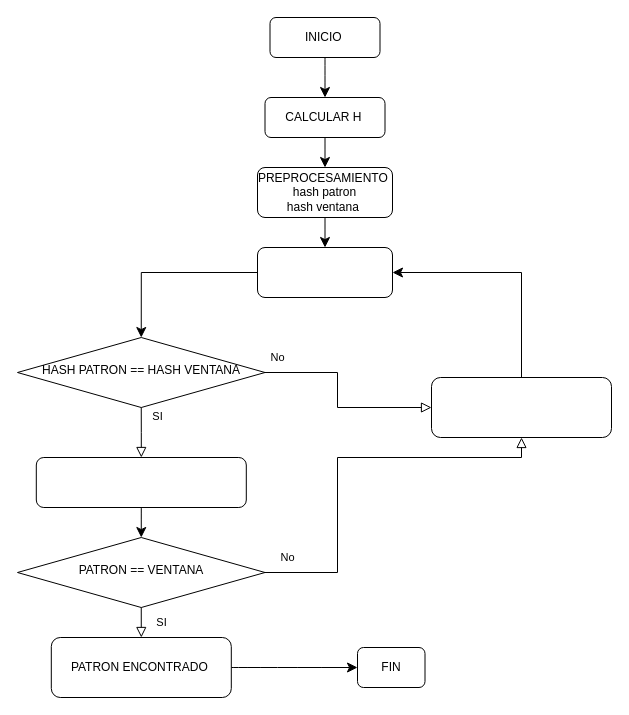
Image size: 629x715. Some labels were removed from this diagram. Here are the shapes that lost their labels. From the top down, the centre of each, then its label:
point (324, 272): ITERACION SOBRE EL TEXTO
point (521, 407): AVANZA UNA POSICION (actualiza hash ventana)
point (140, 482): COMPARA TEXTO CON PATRON CARACTER POR CARACTER
